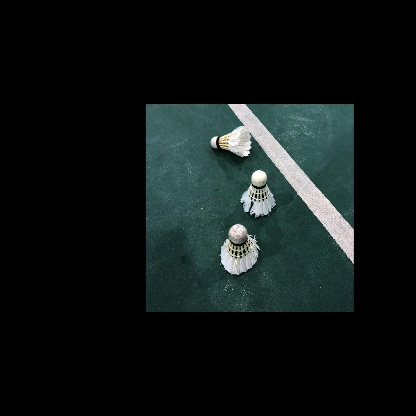ball_single: (220, 224, 260, 275), (240, 170, 276, 218), (211, 126, 252, 157)
